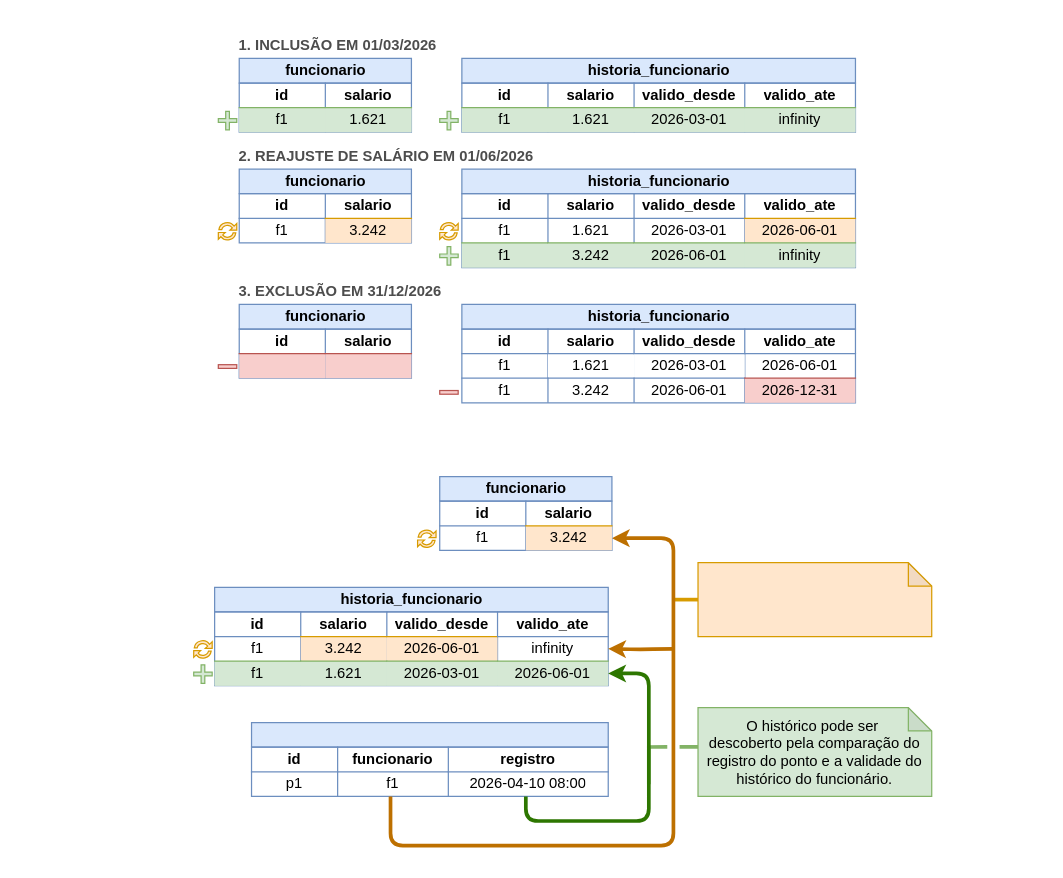
This 1063x878 diagram has some shape labels left out. Each missing label, with the box of its shape:
Chave estrangeira do ponto referencia a versão corrente do funcionário.: (697, 561, 932, 637)
ponto: (250, 721, 608, 796)
